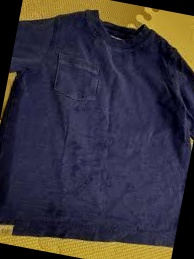oil: (69, 154, 89, 179), (68, 102, 87, 117)
